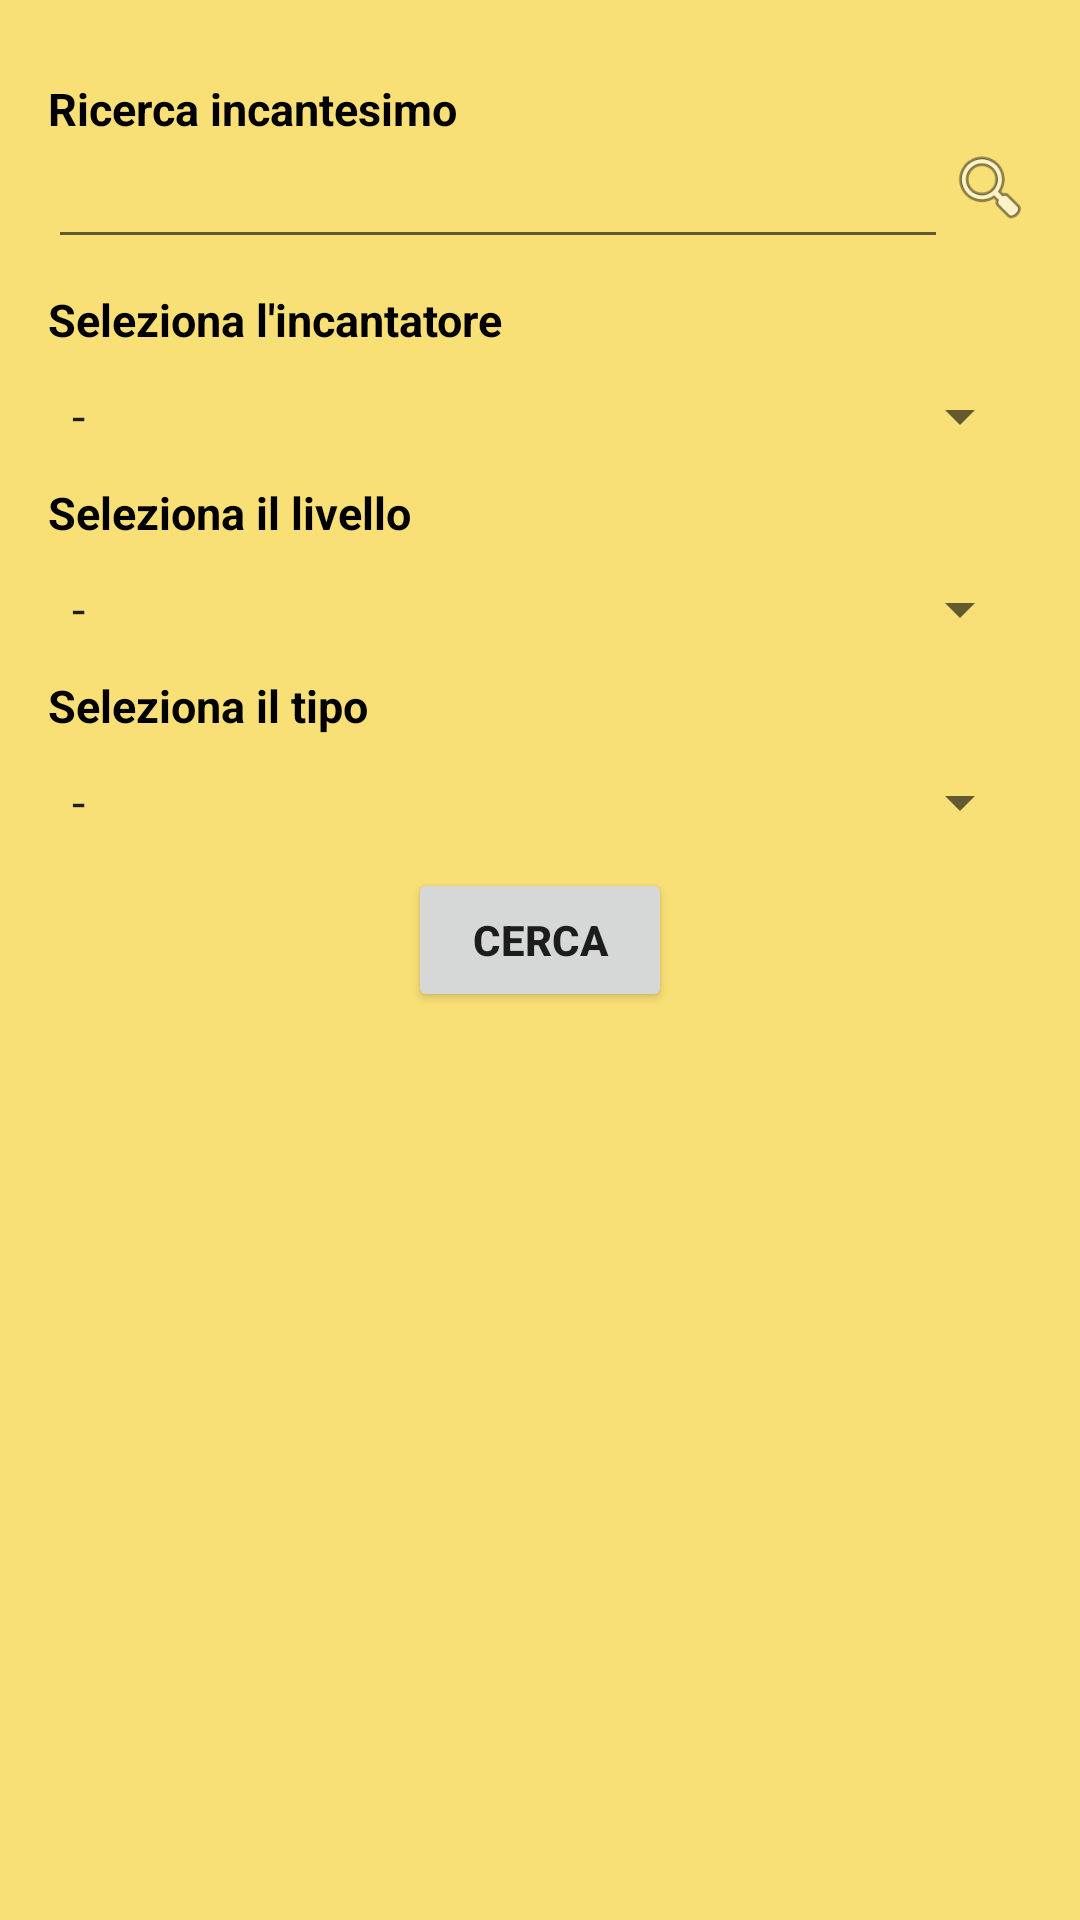

Screen size 1080*1920. Icon name, then its center in pixels as (x=x, y=y):
search: (x=990, y=187)
